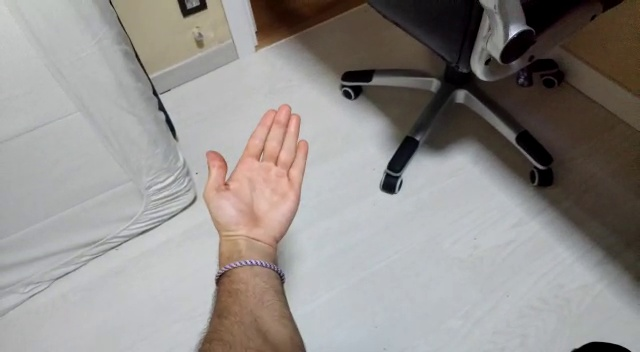Palm: (203, 100, 317, 243)
